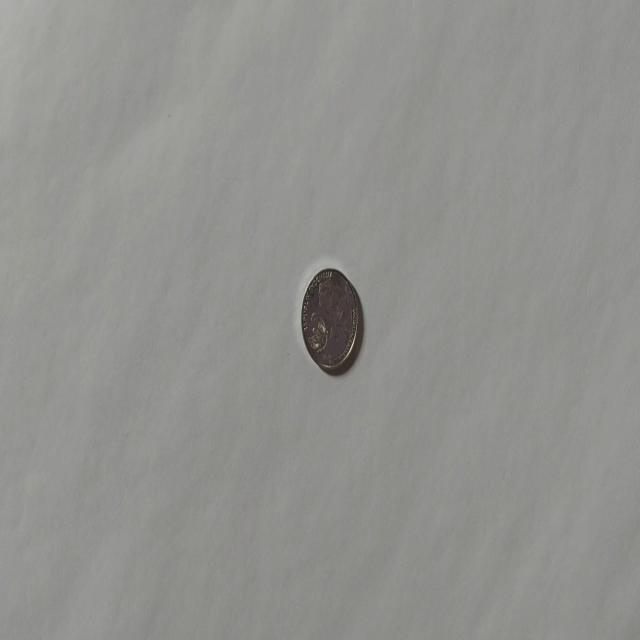dua ratus rupiah: (300, 265, 361, 373)
